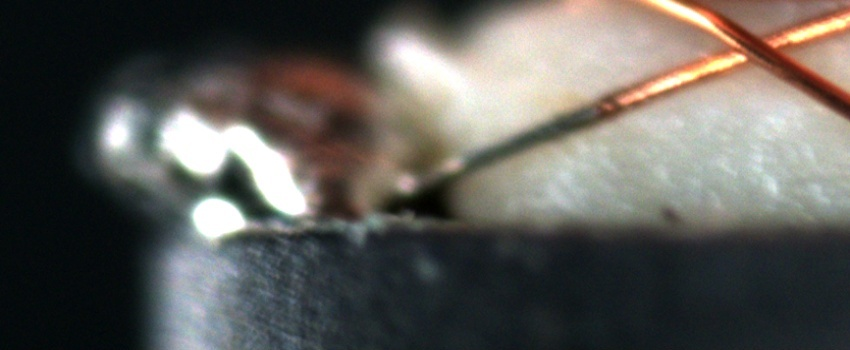CL: (693, 16, 818, 77)
TS: (391, 103, 599, 202)
